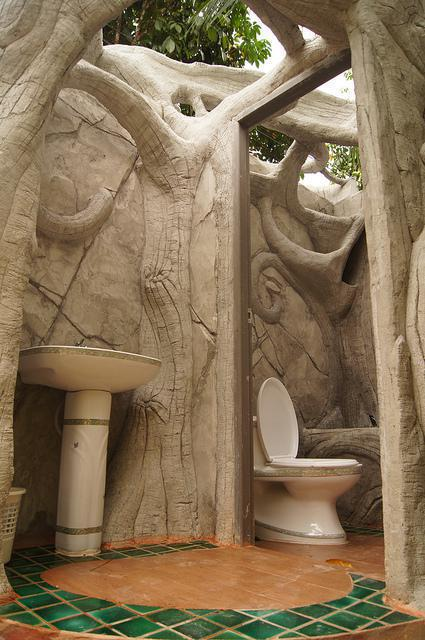Lavamanos: (13, 333, 160, 403)
Sanitario: (239, 377, 366, 542)
